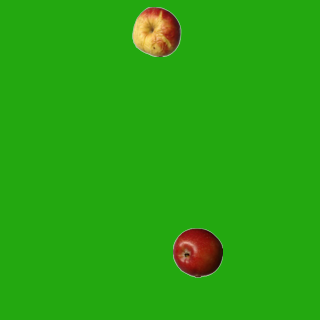Apple Braeburn: (172, 227, 222, 277)
Apple Red Yellow 1: (131, 6, 181, 56)
